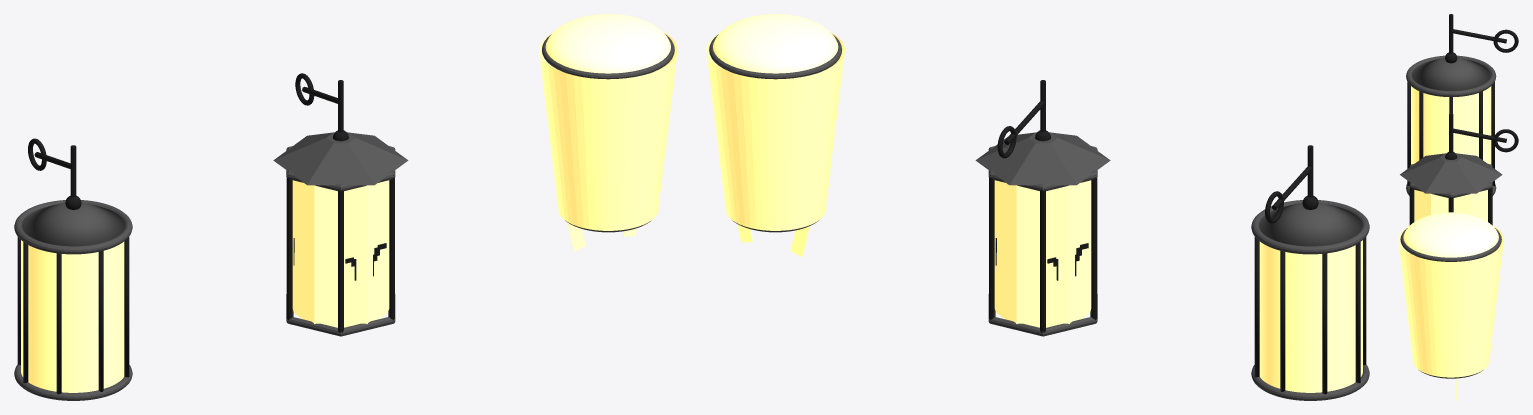
Rendered from candlewake-lamp.glb.
The picture shows the model from 3 angles, left to right: view 1: azimuth 30°, elevation 25°; view 2: azimuth 150°, elevation 25°; view 3: azimuth 270°, elevation 25°; orthographic projection. The views are drawn at different scales.
Visible parts, largest first — view 1: K_Shade, Shade, Z_Shade, K_Dome, Z_Cap, Cap, Hoop_Top, Hoop_Bottom, K_Hoop_T, Z_Post_3, Z_Hoop_B, Z_Post_4 (+5 smaller); view 2: K_Shade, Shade, Z_Shade, K_Dome, Z_Cap, Cap, Hoop_Top, Hoop_Bottom, K_Hoop_T, Z_Post_3, Z_Hoop_B, Z_Post_2 (+5 smaller); view 3: K_Shade, Shade, K_Dome, Z_Cap, Cap, Z_Shade, Hoop_Top, K_Hoop_T, Rib_6, Rib_7, Rib_2, Z_Hoop_T (+9 smaller).
Boxes of the visible parts, left/top/right/bottom form: K_Shade: left=539, top=32, right=677, bottom=230; Shade: left=21, top=240, right=124, bottom=392; Z_Shade: left=292, top=180, right=389, bottom=327; K_Dome: left=545, top=14, right=670, bottom=73; Z_Cap: left=273, top=132, right=408, bottom=185; Cap: left=22, top=202, right=124, bottom=246; Hoop_Top: left=14, top=200, right=132, bottom=254; Hoop_Bottom: left=14, top=365, right=132, bottom=400; K_Hoop_T: left=542, top=34, right=674, bottom=79; Z_Post_3: left=286, top=175, right=292, bottom=320; Z_Hoop_B: left=286, top=294, right=395, bottom=336; Z_Post_4: left=338, top=188, right=343, bottom=332; K_Shade: left=706, top=32, right=844, bottom=230; Shade: left=1259, top=240, right=1362, bottom=392; Z_Shade: left=994, top=180, right=1091, bottom=327; K_Dome: left=713, top=14, right=838, bottom=73; Z_Cap: left=975, top=132, right=1110, bottom=185; Cap: left=1259, top=202, right=1361, bottom=246; Hoop_Top: left=1251, top=200, right=1369, bottom=254; Hoop_Bottom: left=1251, top=365, right=1369, bottom=400; K_Hoop_T: left=709, top=34, right=841, bottom=79; Z_Post_3: left=1091, top=175, right=1097, bottom=320; Z_Hoop_B: left=988, top=294, right=1097, bottom=336; Z_Post_2: left=1040, top=188, right=1045, bottom=332; K_Shade: left=1398, top=226, right=1503, bottom=377; Shade: left=1411, top=86, right=1491, bottom=164; K_Dome: left=1403, top=212, right=1498, bottom=257; Z_Cap: left=1400, top=153, right=1502, bottom=193; Cap: left=1412, top=57, right=1490, bottom=90; Z_Shade: left=1414, top=190, right=1487, bottom=221; Hoop_Top: left=1406, top=55, right=1496, bottom=96; K_Hoop_T: left=1400, top=228, right=1501, bottom=261; Rib_6: left=1407, top=82, right=1410, bottom=185; Rib_7: left=1419, top=91, right=1423, bottom=159; Rib_2: left=1491, top=82, right=1494, bottom=185; Z_Hoop_T: left=1409, top=163, right=1492, bottom=197.
Size of what is drawn, in the model's own units: 1.01 by 0.357 by 0.2148.
